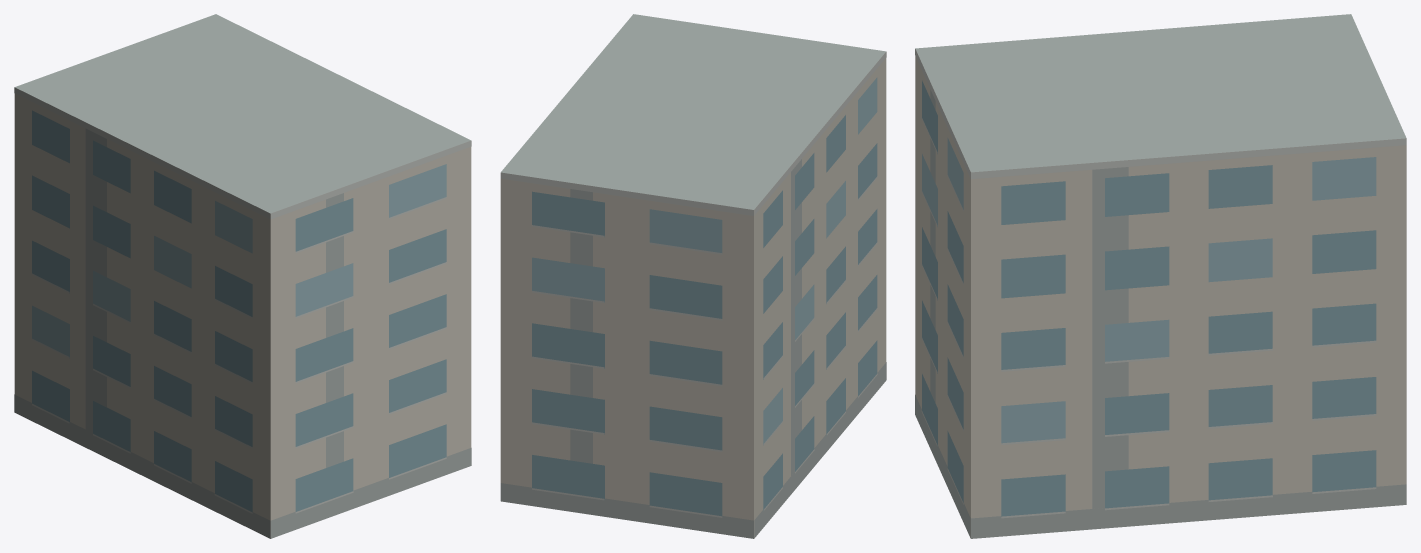
The model's file is survey-upis-32882585.glb.
The picture shows the model from 3 angles, left to right: view 1: azimuth 30°, elevation 25°; view 2: azimuth 150°, elevation 25°; view 3: azimuth 270°, elevation 25°; orthographic projection. The views are drawn at different scales.
Visible parts, largest first — view 1: survey-upis-32882585.tmp; view 2: survey-upis-32882585.tmp; view 3: survey-upis-32882585.tmp.
Boxes of the visible parts, bbox=[...] form: survey-upis-32882585.tmp: bbox=[14, 14, 471, 538]; survey-upis-32882585.tmp: bbox=[500, 14, 886, 538]; survey-upis-32882585.tmp: bbox=[915, 14, 1406, 538].
Bounding box in the file's own units: 12.15 × 13.1 × 15.93.
